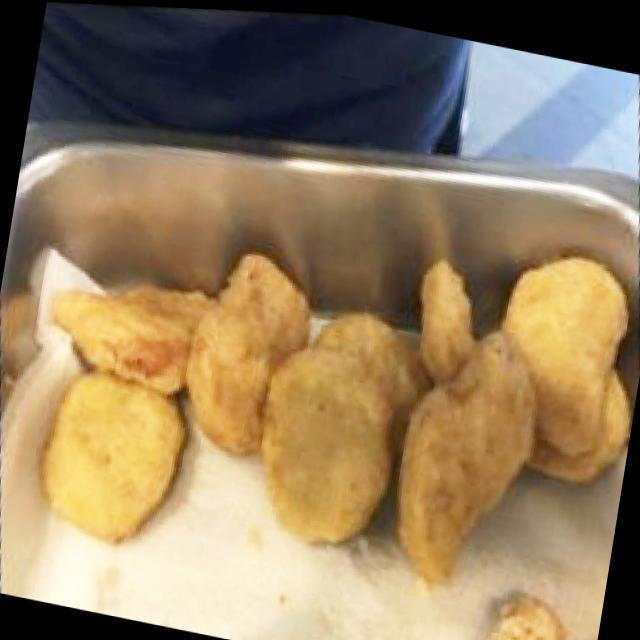chicken_nuggets: (21, 155, 640, 631), (384, 321, 548, 597), (250, 340, 402, 555), (176, 245, 316, 465), (490, 245, 634, 455), (32, 364, 186, 550), (42, 266, 214, 404), (411, 259, 482, 384)
